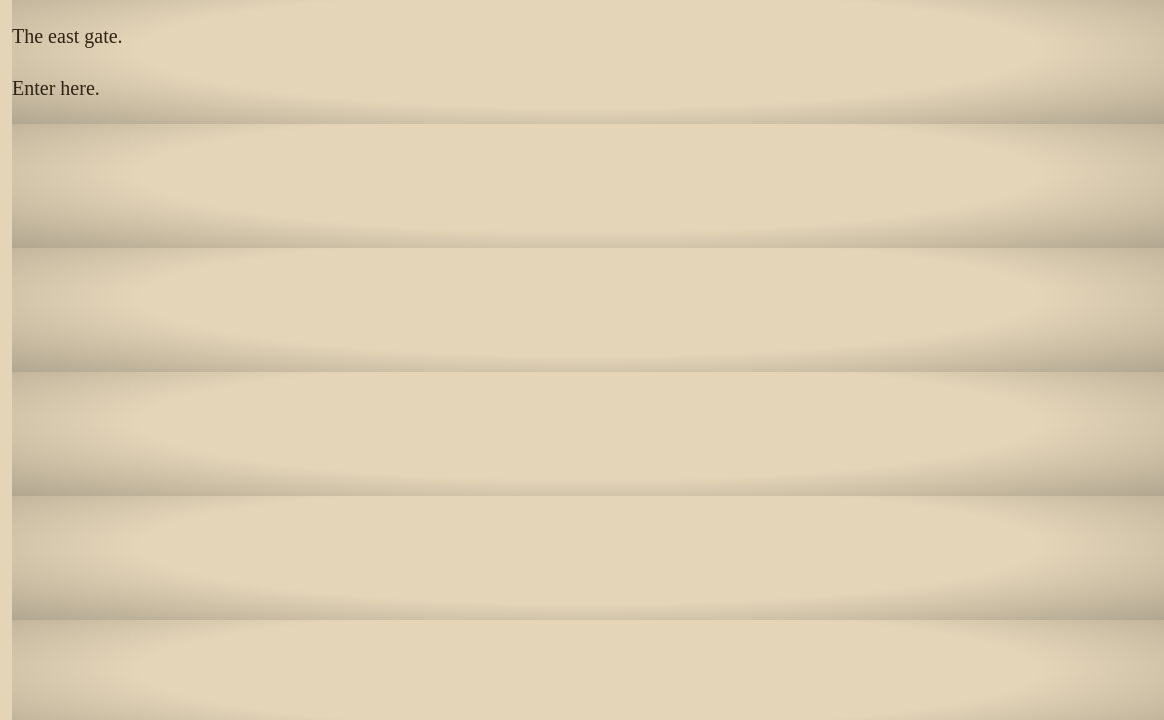
Test case: PassagePage › peek › marks every occurrence of the tapped letter in the word, in either case
The width and height of the screenshot is (1164, 720).
What coordinates should you click on to do the following:
click the text "E"
I would click on:
 (18, 88)
Its box is [12,77,24,99].
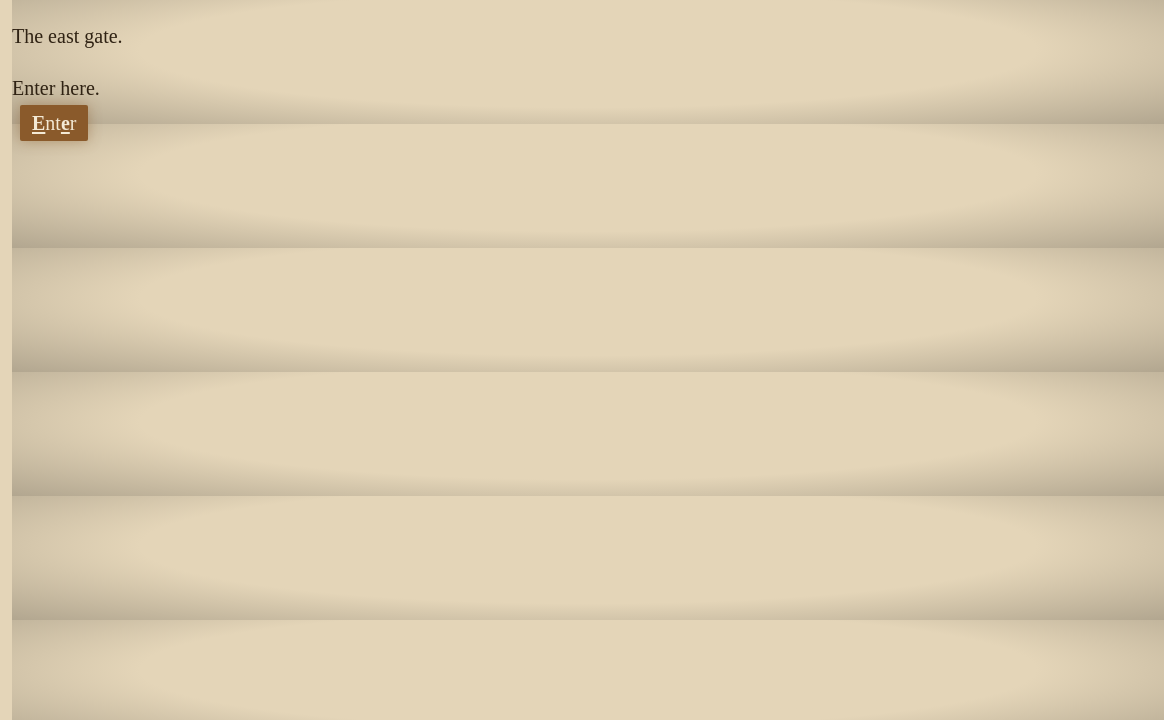
Result: the tooltip reads "Enter" at [20,105,88,141]
